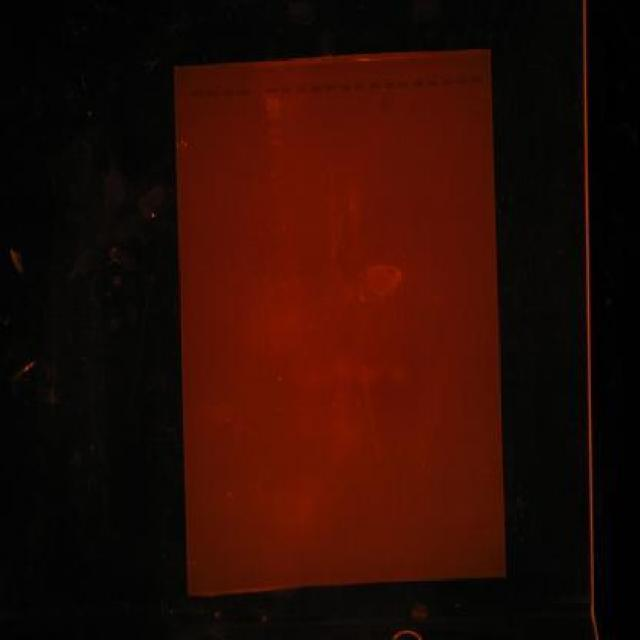L: (185, 66, 490, 102)
M: (260, 102, 291, 242)
P: (269, 224, 286, 236), (269, 170, 285, 178), (265, 112, 281, 120), (268, 138, 282, 146), (266, 128, 282, 134), (265, 106, 281, 112)
Pc: (263, 84, 279, 98), (323, 80, 339, 94), (454, 72, 470, 86), (396, 76, 412, 90), (367, 78, 382, 92), (424, 75, 440, 88), (236, 84, 250, 98), (279, 82, 293, 96), (308, 80, 322, 94), (339, 80, 353, 94), (353, 78, 367, 92), (469, 72, 483, 86), (440, 74, 454, 88), (412, 74, 426, 88), (382, 77, 396, 91), (220, 87, 236, 98), (192, 88, 206, 99), (206, 87, 220, 98), (294, 83, 308, 94)
